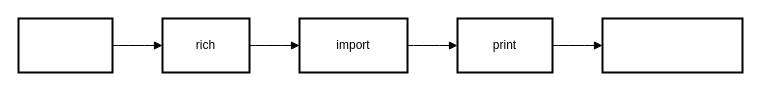
Some shapes in this 760 by 90 pixel diagram are drawn without their labels. Here are the shapes that lost their labels. From the top down, the centre of each, then its label:
point 65,45: from
point 672,45: def print_a
